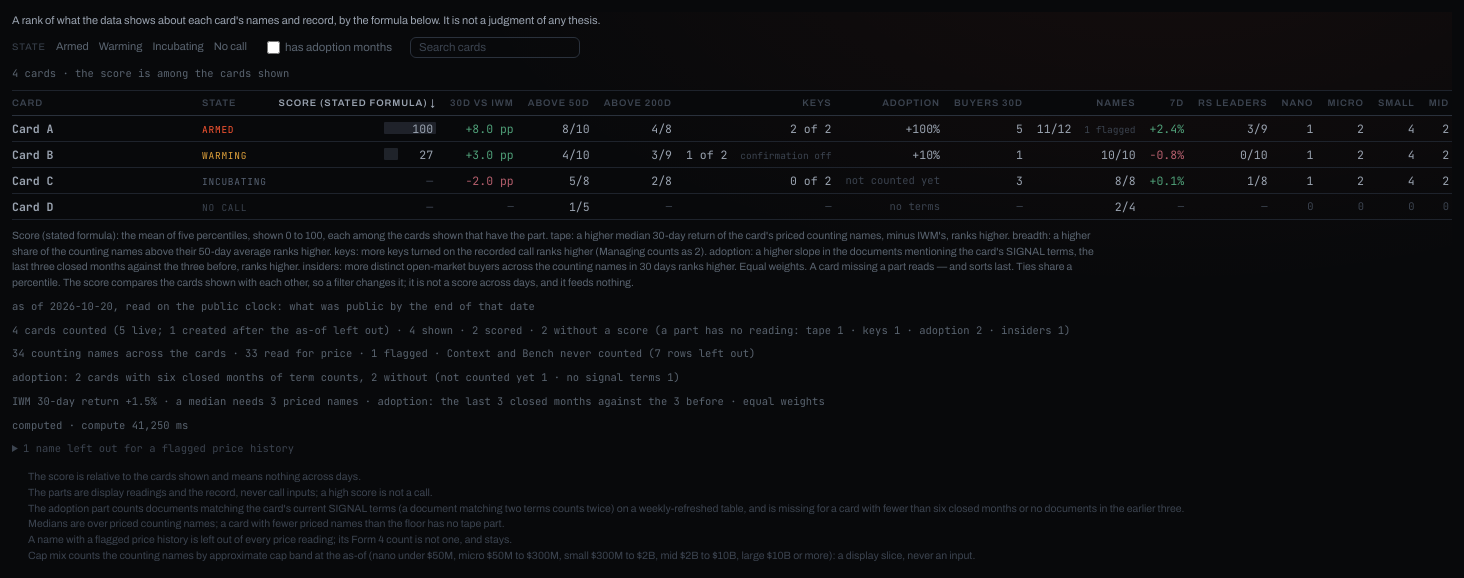
it: ThemeLeaderboard — the score is among the cards shown › filters to the cards with adoption months, and by a piece of the name
Step 1. Click the checkbox labelled "has adoption months" → click(274, 47), box [267,41,280,54]
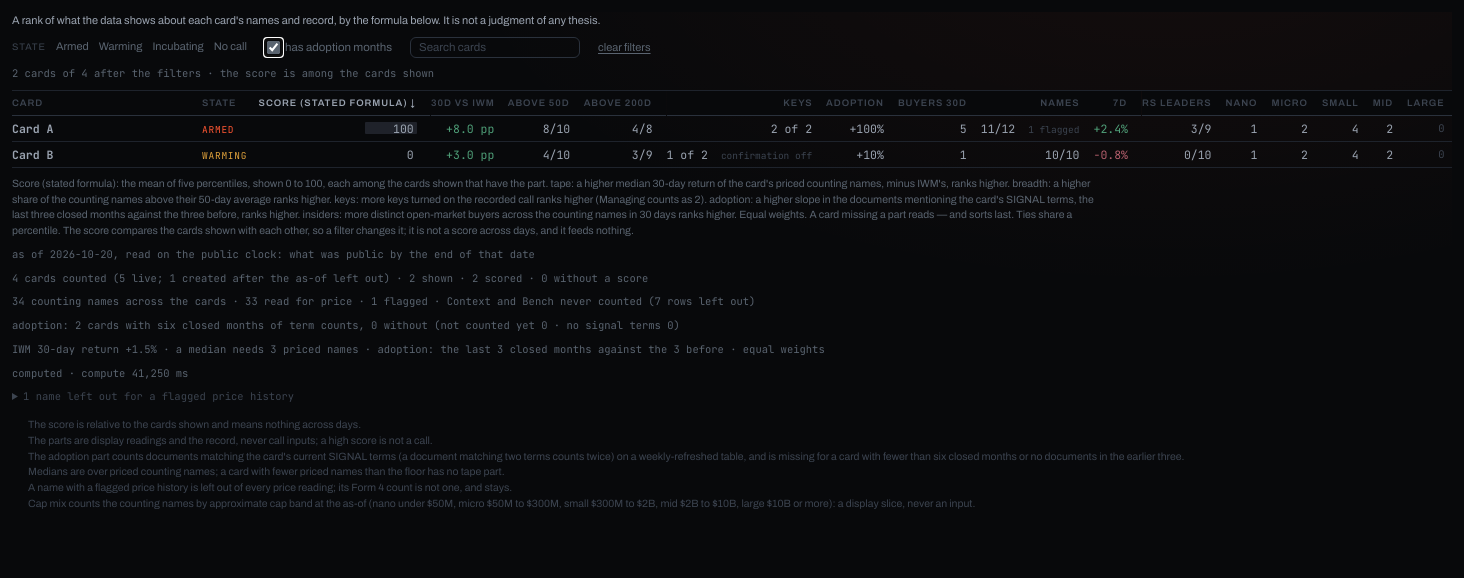
Step 2. Click the checkbox labelled "has adoption months" → click(274, 47), box [267,41,280,54]
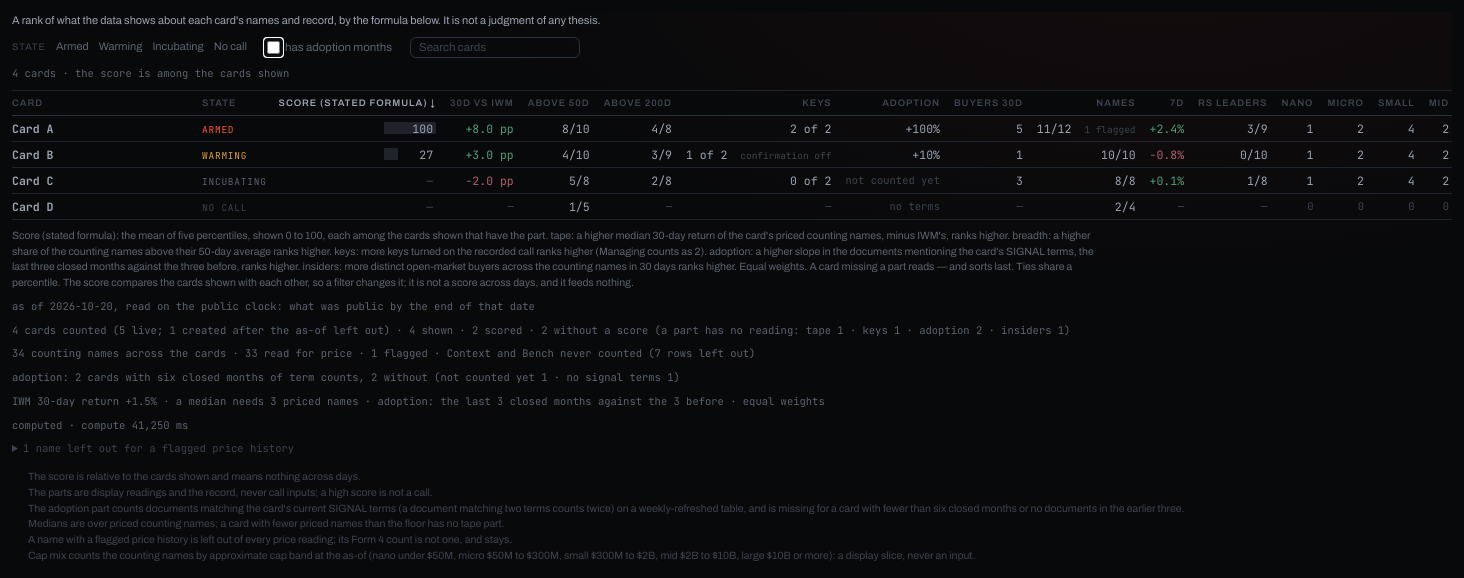
Step 3. Type "card c" into the search field labelled "Search cards" → (495, 47), box [410,36,580,58]
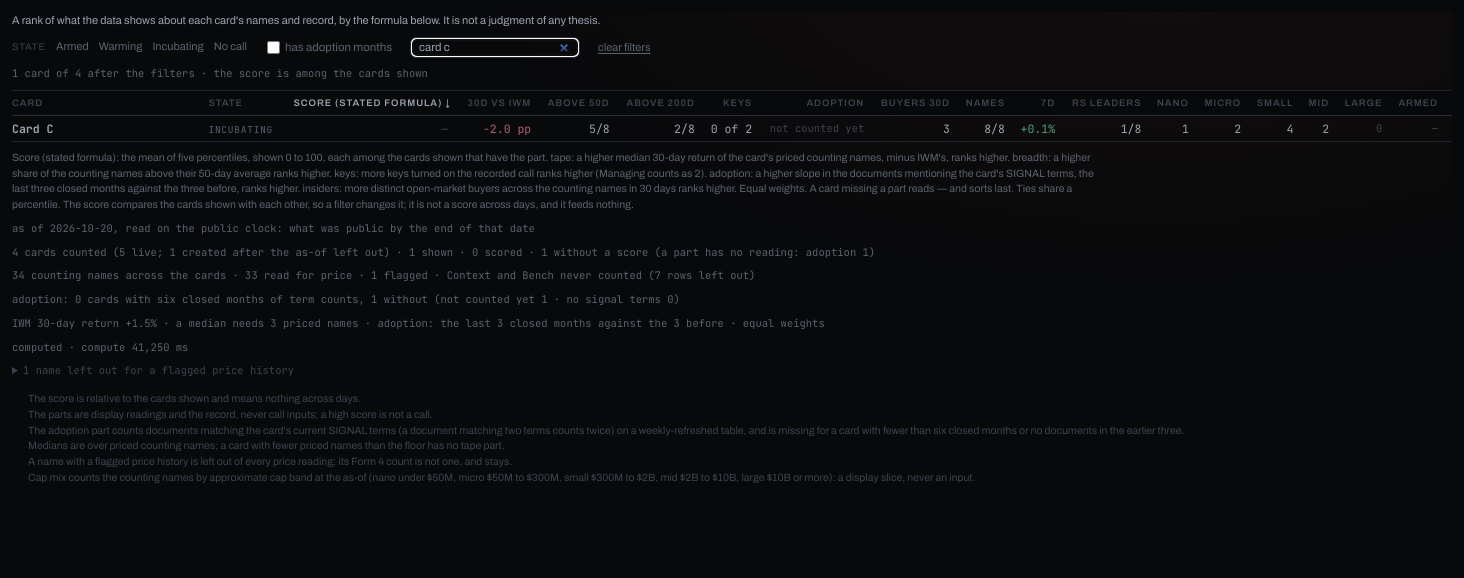
Step 4. Replace the text in the search field named "Search cards" with "zzz" → (495, 47), box [410,36,580,58]
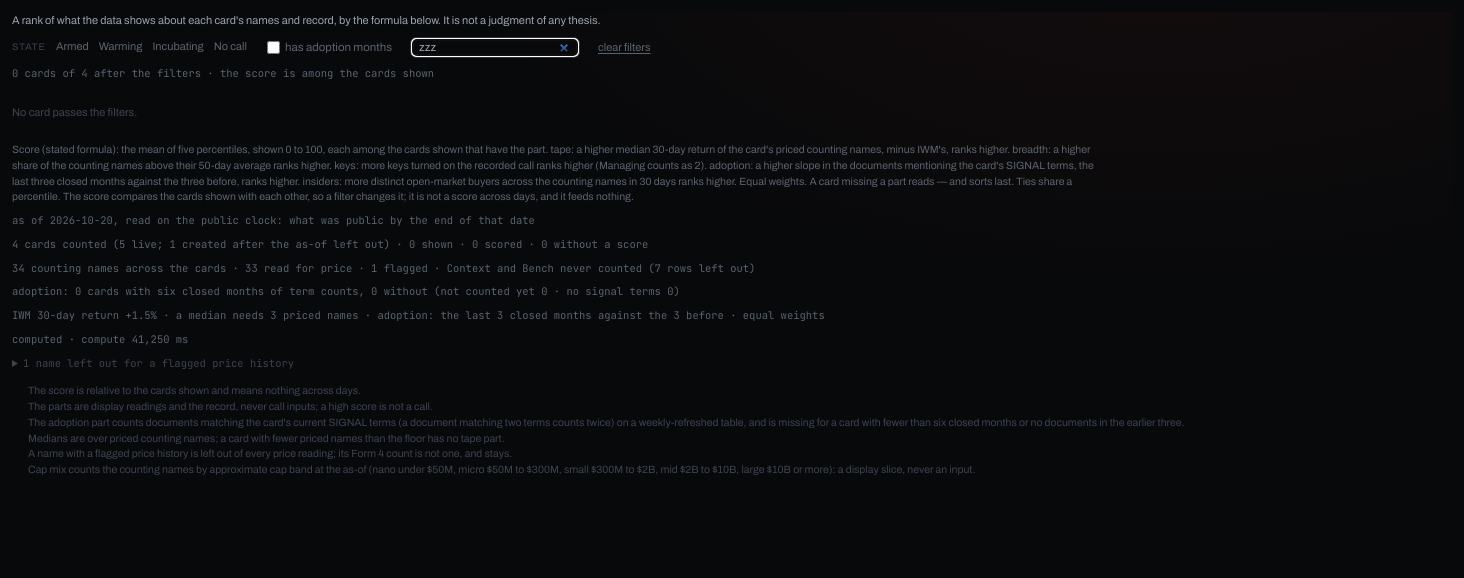
Check: the text "No card passes the filters." is shown, box [12,106,137,118]
